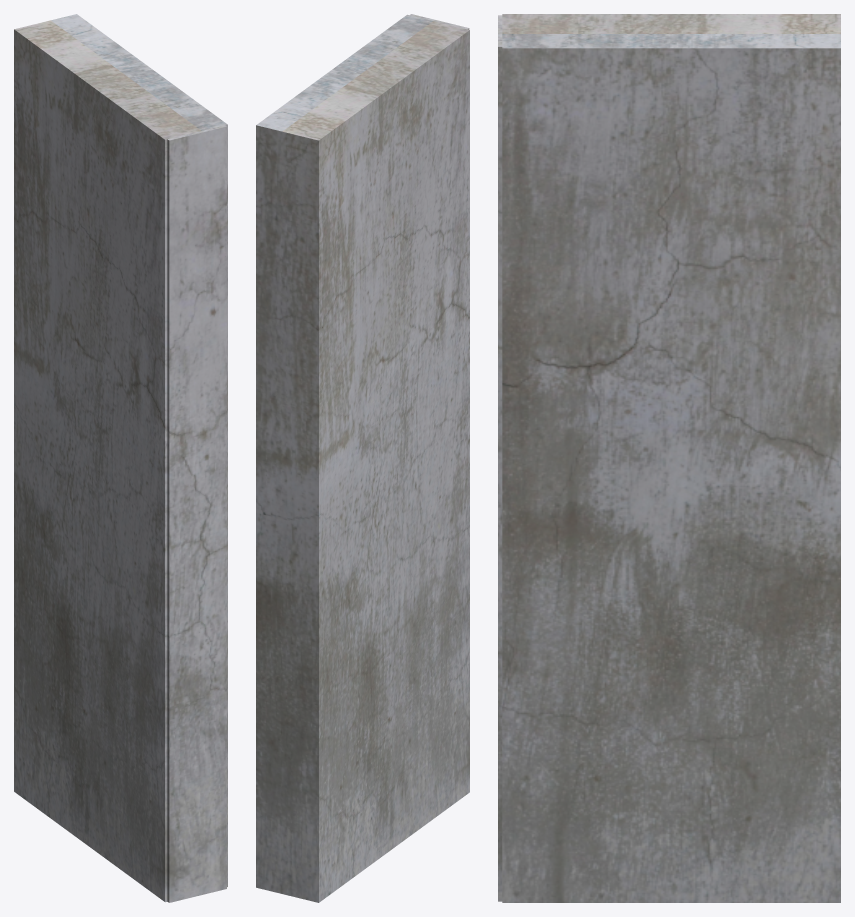
The model's file is ms_tri_b_2_pile1c.fbx.
3 views of the same model, side by side, from view 1: azimuth 30°, elevation 25°; view 2: azimuth 150°, elevation 25°; view 3: azimuth 270°, elevation 25° (orthographic). The views are drawn at different scales.
Visible parts, largest first — view 1: ms_tri_b_2_pile1c; view 2: ms_tri_b_2_pile1c; view 3: ms_tri_b_2_pile1c.
Part boxes in pixels (<box>): ms_tri_b_2_pile1c: <box>14,14,227,902</box>; ms_tri_b_2_pile1c: <box>256,14,469,902</box>; ms_tri_b_2_pile1c: <box>498,14,840,902</box>.
Bounding box in the file's own units: 32.94 × 382 × 139.
